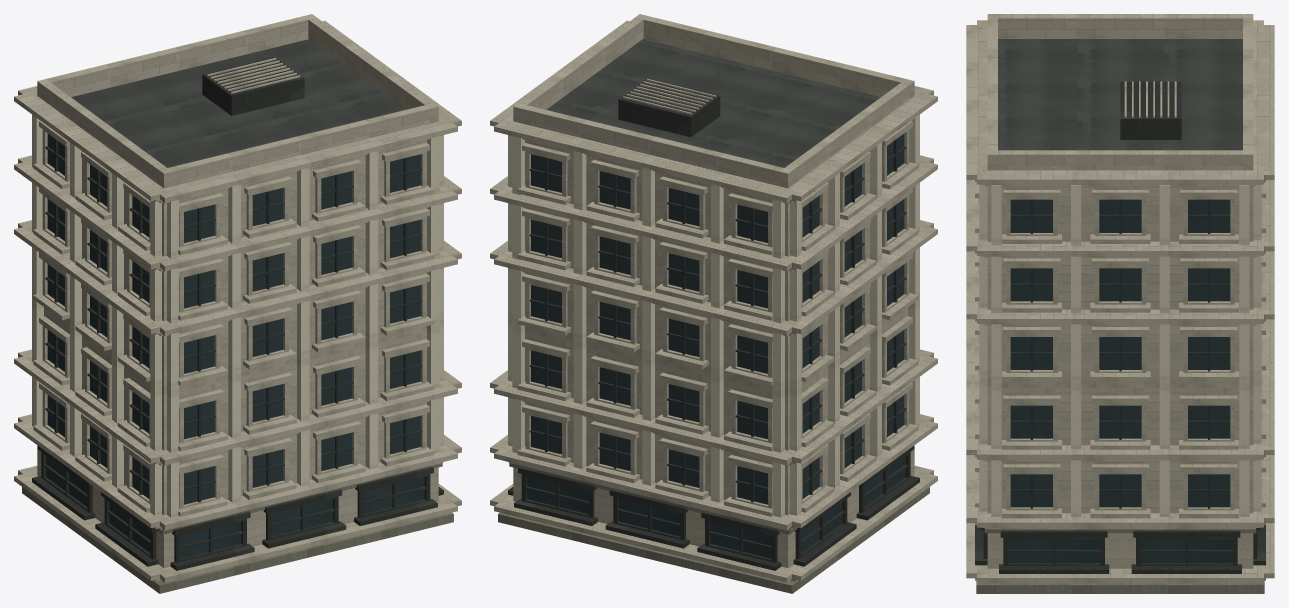
The model's file is city-offices.glb.
The picture shows the model from 3 angles, left to right: view 1: azimuth 30°, elevation 25°; view 2: azimuth 150°, elevation 25°; view 3: azimuth 270°, elevation 25°; orthographic projection. The views are drawn at different scales.
Parts seen in each view (by area): view 1: city-offices.001; view 2: city-offices.001; view 3: city-offices.001.
Boxes of the visible parts, box(x1,y1,x2,y2) form: city-offices.001: box(14, 14, 461, 593); city-offices.001: box(490, 14, 937, 593); city-offices.001: box(966, 14, 1274, 593).
Bounding box in the file's own units: 8 × 10.2 × 6.55.
Materials: 1 (1 with a texture image).
